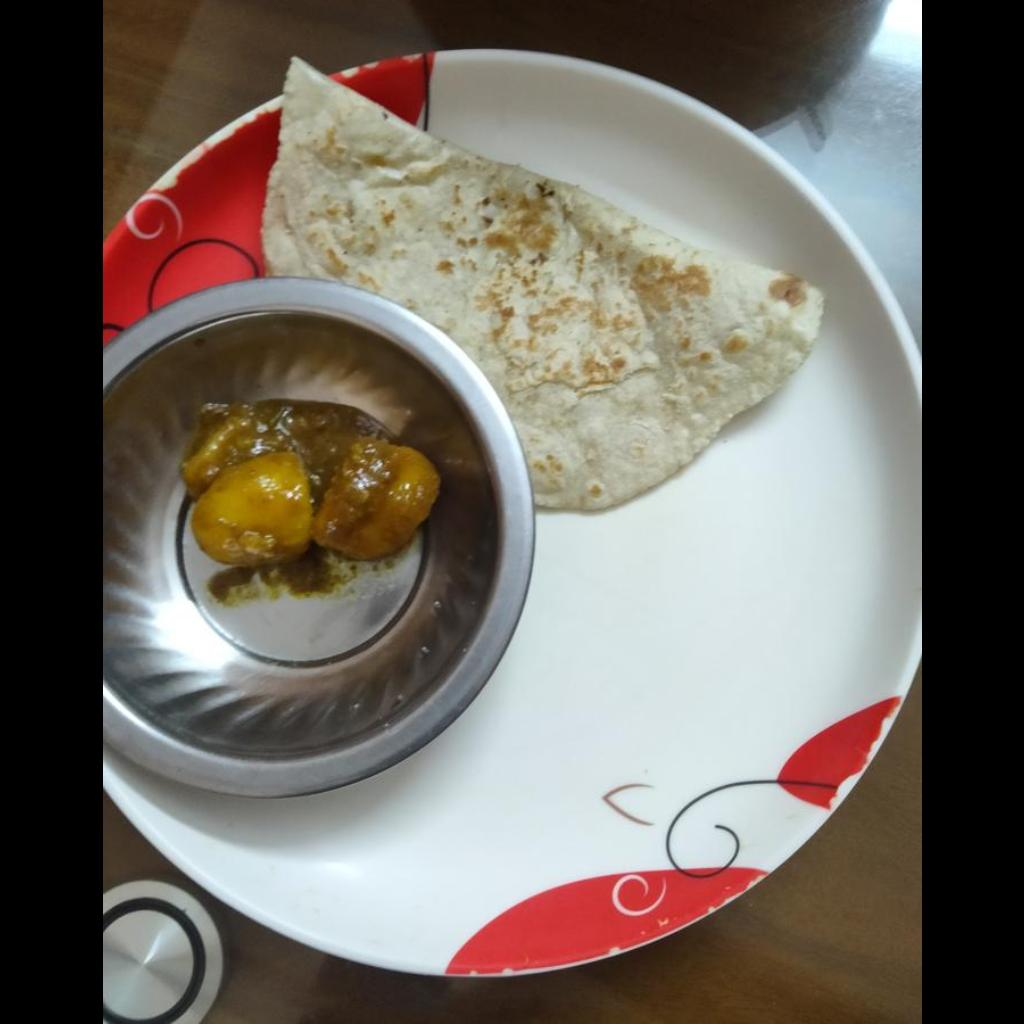potato: (182, 403, 439, 567)
ruti: (259, 60, 829, 512)
